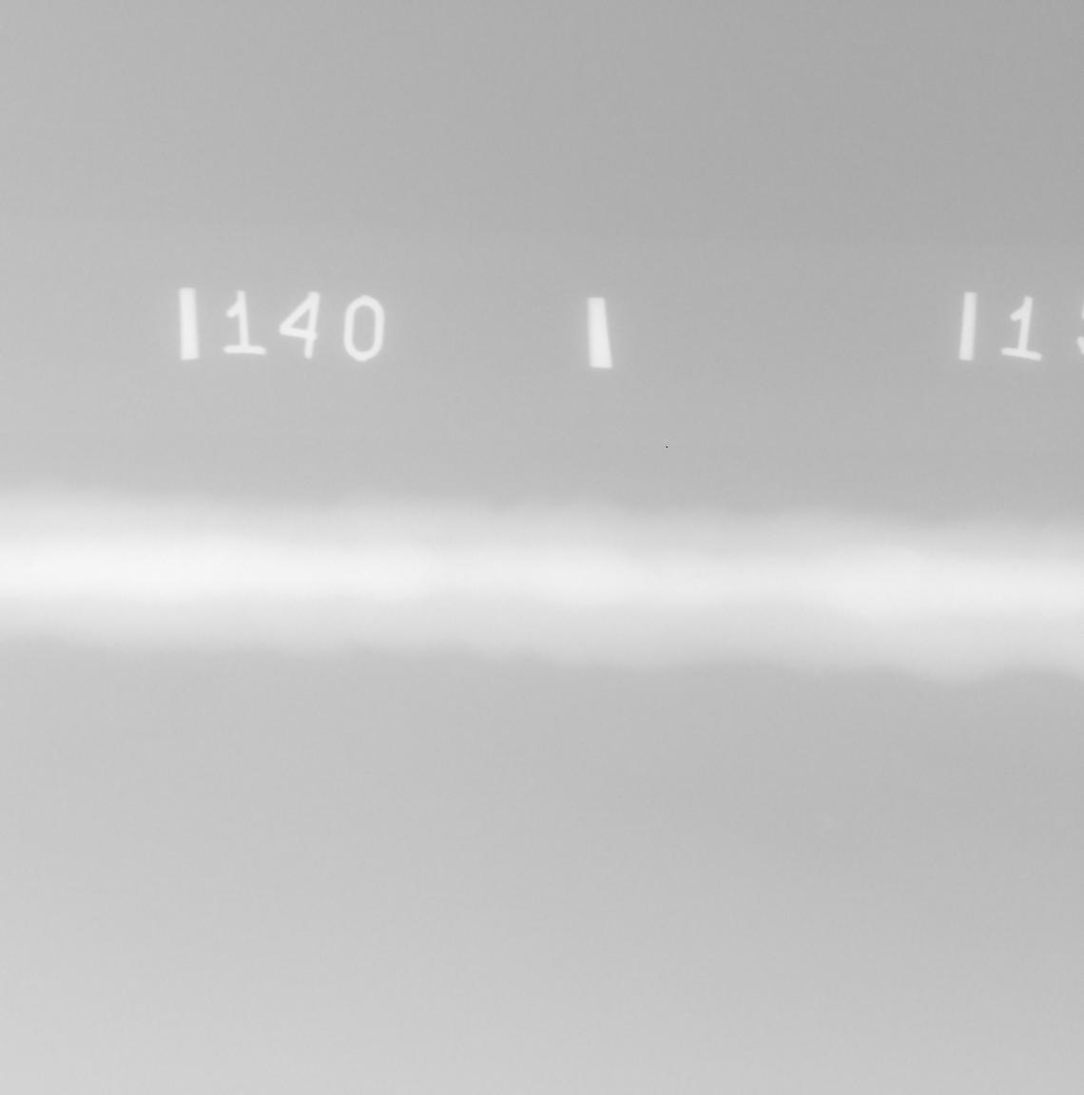Pore/Porosity: (25, 561, 33, 567), (695, 573, 700, 579), (368, 591, 373, 596), (354, 570, 358, 574)
